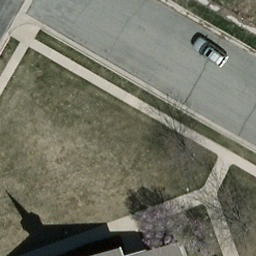car: (190, 36, 232, 70)
